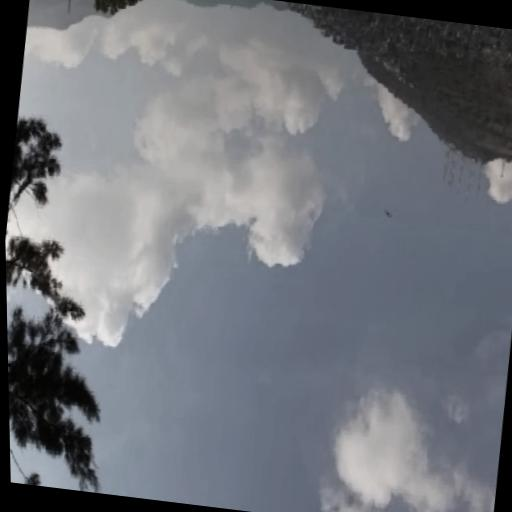drones: (378, 202, 397, 226)
